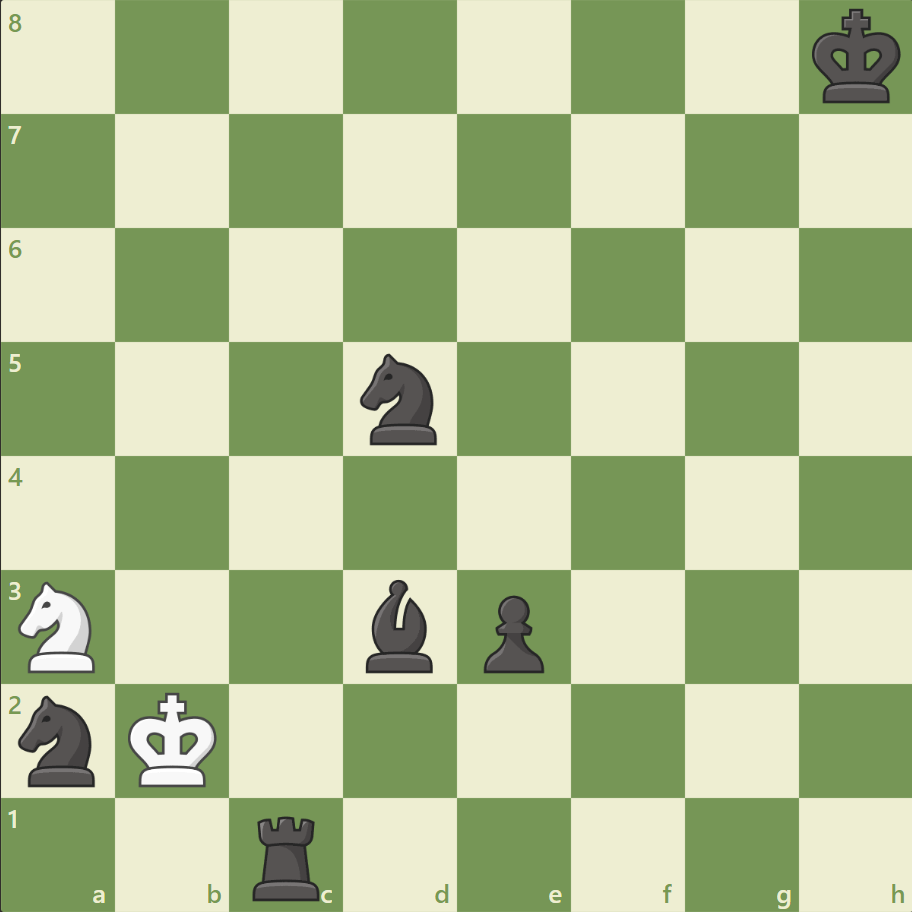K: (124, 685, 224, 793)
N: (11, 575, 108, 677)
b: (358, 574, 442, 676)
k: (806, 4, 906, 112)
n: (351, 348, 449, 450), (11, 688, 108, 791)
p: (474, 586, 549, 677)
r: (246, 806, 329, 904)
